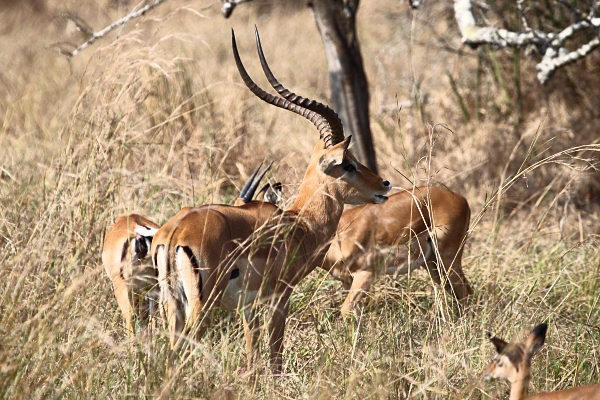impala: (149, 17, 396, 390), (215, 157, 504, 348)
